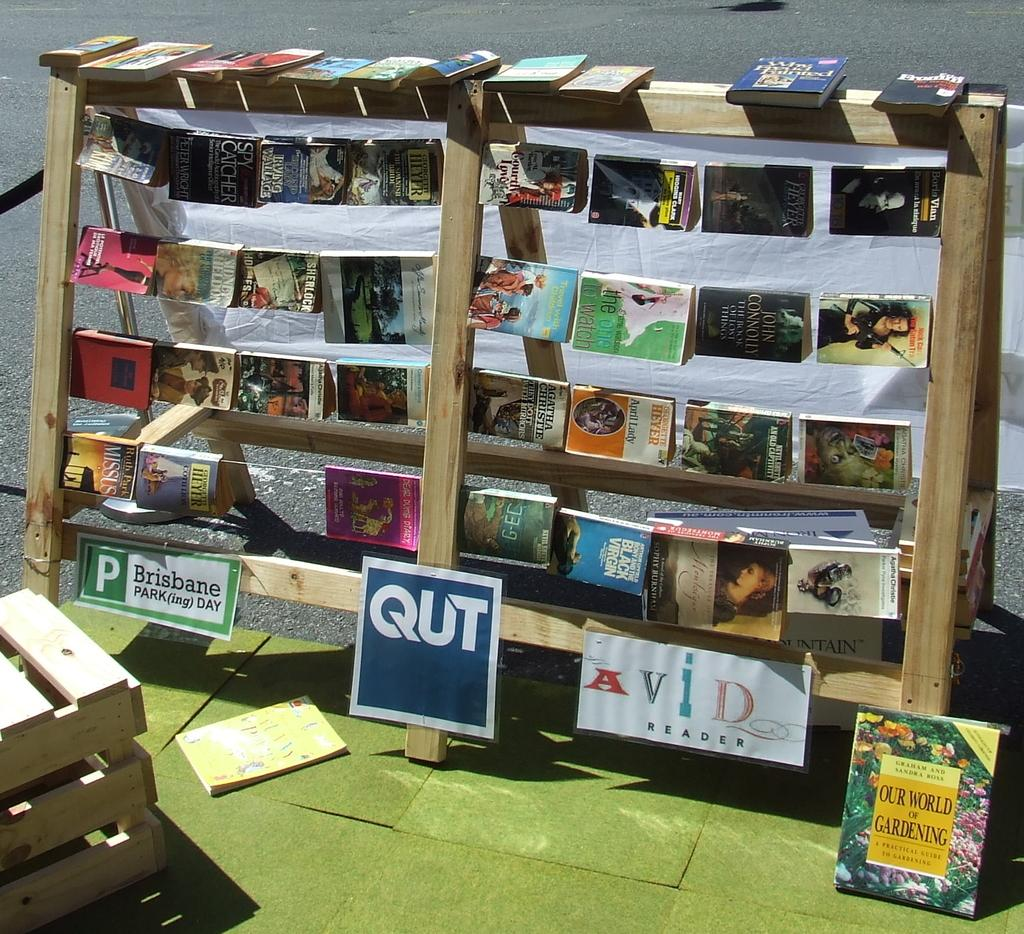Book: (833, 703, 1010, 920), (175, 695, 349, 797), (571, 270, 696, 366), (467, 254, 578, 343), (564, 383, 676, 468), (796, 412, 911, 494), (681, 399, 793, 483), (694, 286, 812, 363), (816, 291, 932, 368), (323, 464, 421, 552), (829, 164, 945, 237), (588, 154, 697, 231), (701, 162, 812, 237), (456, 486, 557, 568), (468, 368, 569, 450), (68, 326, 156, 410), (68, 225, 165, 295), (725, 54, 848, 108), (236, 353, 330, 421), (149, 342, 238, 411), (335, 362, 427, 426), (481, 53, 587, 93), (871, 71, 966, 115), (558, 64, 655, 106)
